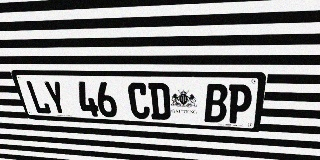4: (74, 81, 100, 117)
6: (93, 82, 118, 118)
B: (204, 84, 228, 123)
C: (127, 82, 151, 119)
D: (148, 83, 171, 120)
L: (25, 80, 52, 114)
P: (226, 84, 253, 124)
Y: (42, 81, 69, 115)
